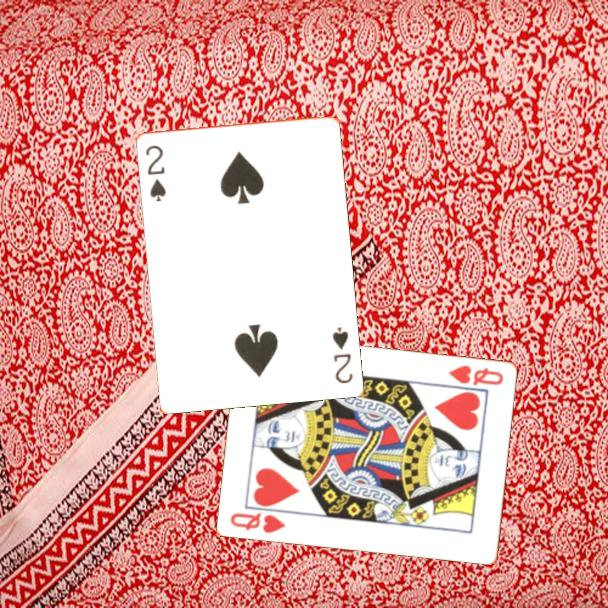h12: (227, 509, 289, 536), (445, 362, 506, 388)
s02: (142, 141, 168, 204), (329, 323, 355, 386)
